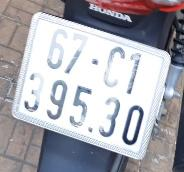0: (117, 100, 148, 150)
1: (118, 49, 151, 98)
3: (94, 92, 127, 142), (19, 69, 49, 116)
5: (64, 82, 98, 134)
6: (42, 27, 74, 74)
7: (59, 30, 95, 82)
9: (40, 76, 71, 123)
C: (98, 43, 132, 93)
